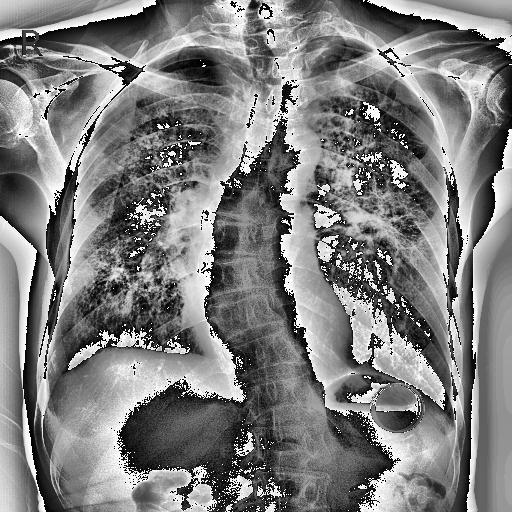11- Pleural thickening: (358, 343, 380, 368)
13- Pulmonary fibrosis: (314, 75, 430, 258), (315, 114, 442, 262), (82, 244, 158, 296)
5- ILD: (314, 75, 430, 258), (317, 105, 437, 259), (60, 226, 186, 320), (66, 251, 156, 345), (86, 122, 175, 215), (111, 117, 167, 207)
6- Infiltration: (317, 105, 437, 259)
9- Other lesion: (196, 94, 334, 432), (202, 140, 322, 404), (202, 222, 316, 394)
